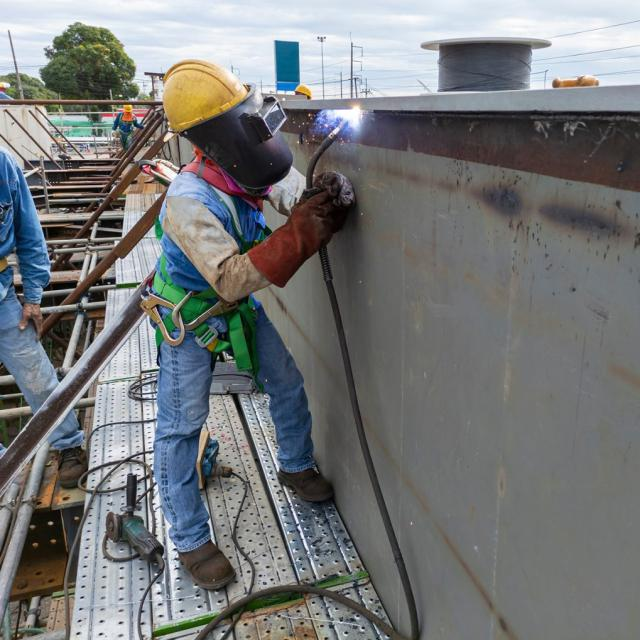welding: (341, 108, 369, 129)
